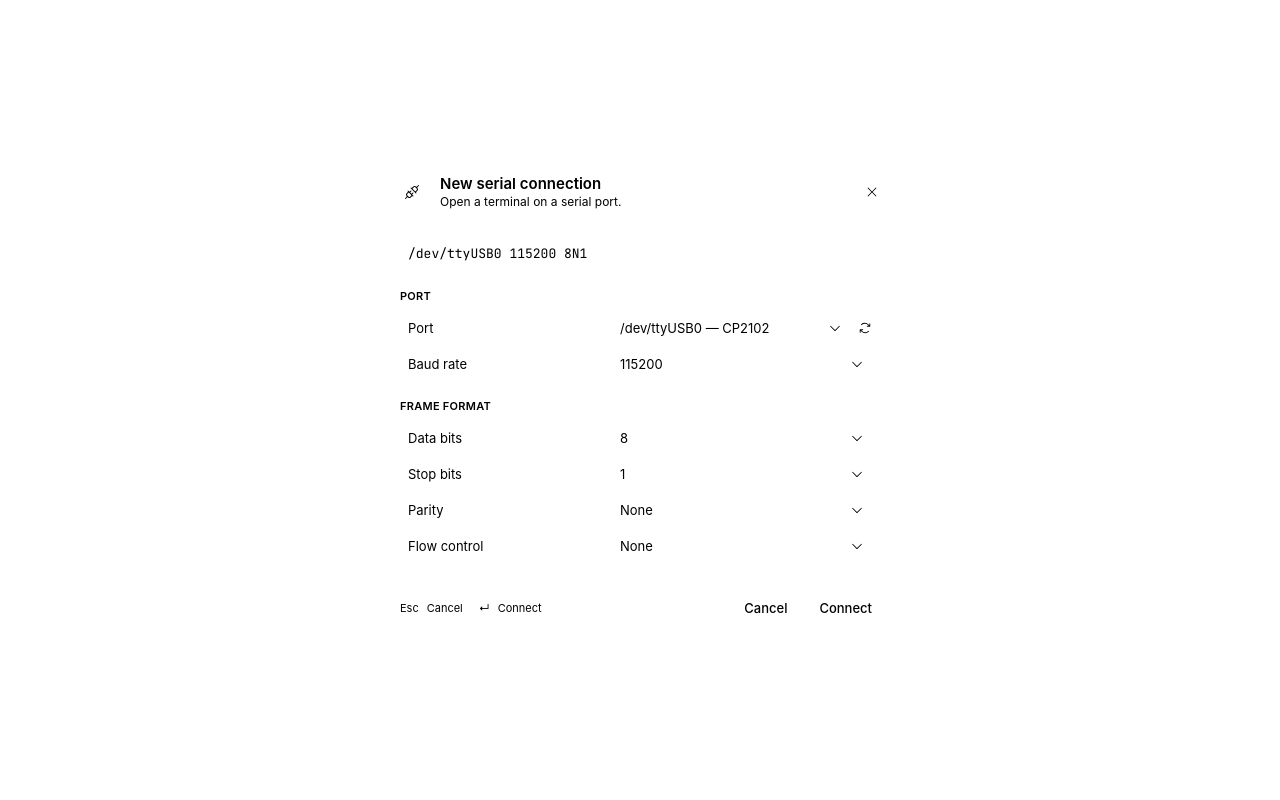
Test case: SerialDialog › lists detected ports and picks the first one
Click the dropdown named "Port": (731, 328) [612,318,850,338]
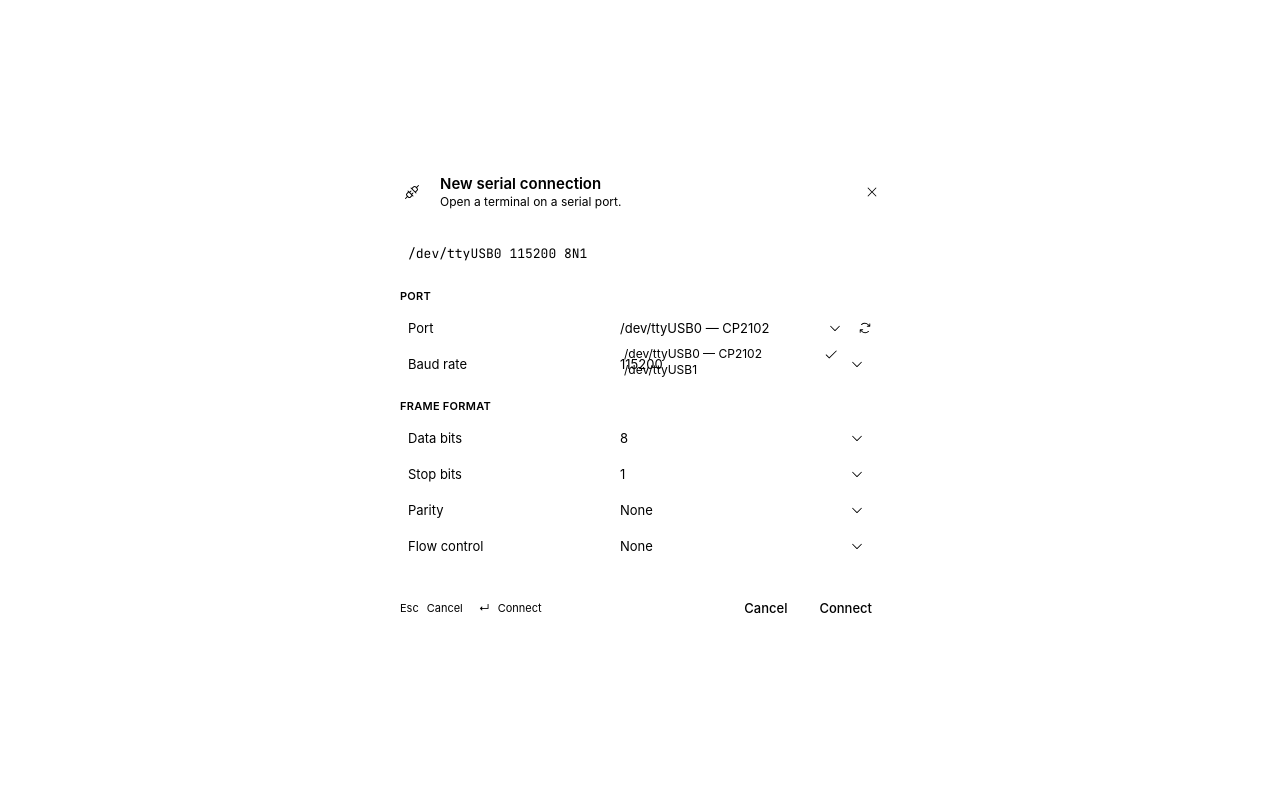
Expected: the options read "/dev/ttyUSB0 — CP2102", "/dev/ttyUSB1", in this order, [616,346,846,362]; [624,362,697,377]
